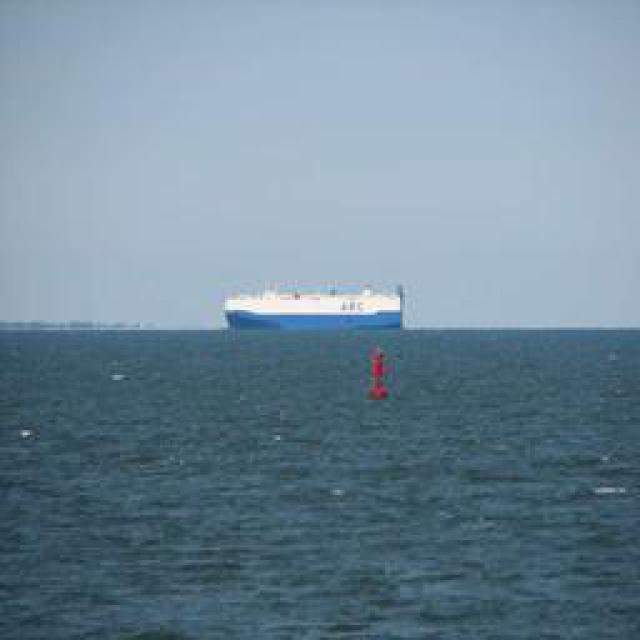Ship: (223, 283, 408, 331)
